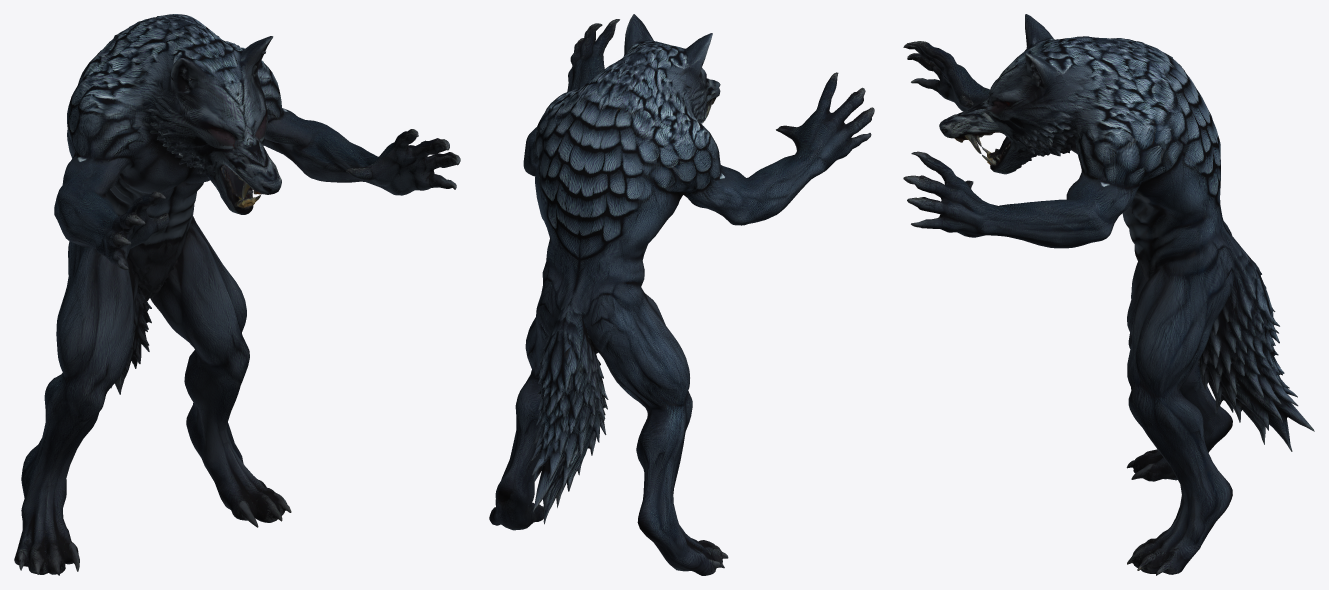
The model's file is Meshy_AI_dungeon_crawler_dog_w_0504063232_texture.fbx.
3 renders of one model, left to right at view 1: azimuth 30°, elevation 25°; view 2: azimuth 150°, elevation 25°; view 3: azimuth 270°, elevation 25°, orthographic. The views are drawn at different scales.
Visible parts, largest first — view 1: Mesh_0; view 2: Mesh_0; view 3: Mesh_0.
Boxes of the visible parts, bbox=[...] form: Mesh_0: bbox=[14, 14, 460, 575]; Mesh_0: bbox=[489, 14, 874, 575]; Mesh_0: bbox=[903, 14, 1314, 575].
Size of the model in its own units: 125 by 191 by 146.
1 material, 1 textured.
